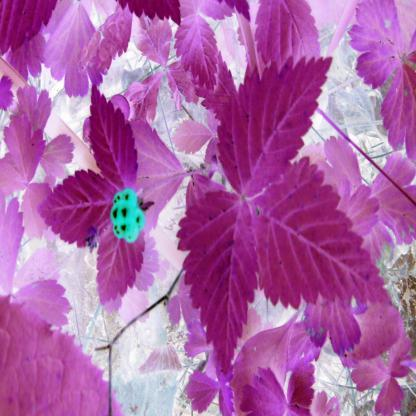Raspberry leaf: (250, 158, 396, 312), (216, 52, 337, 198), (173, 190, 264, 378)
